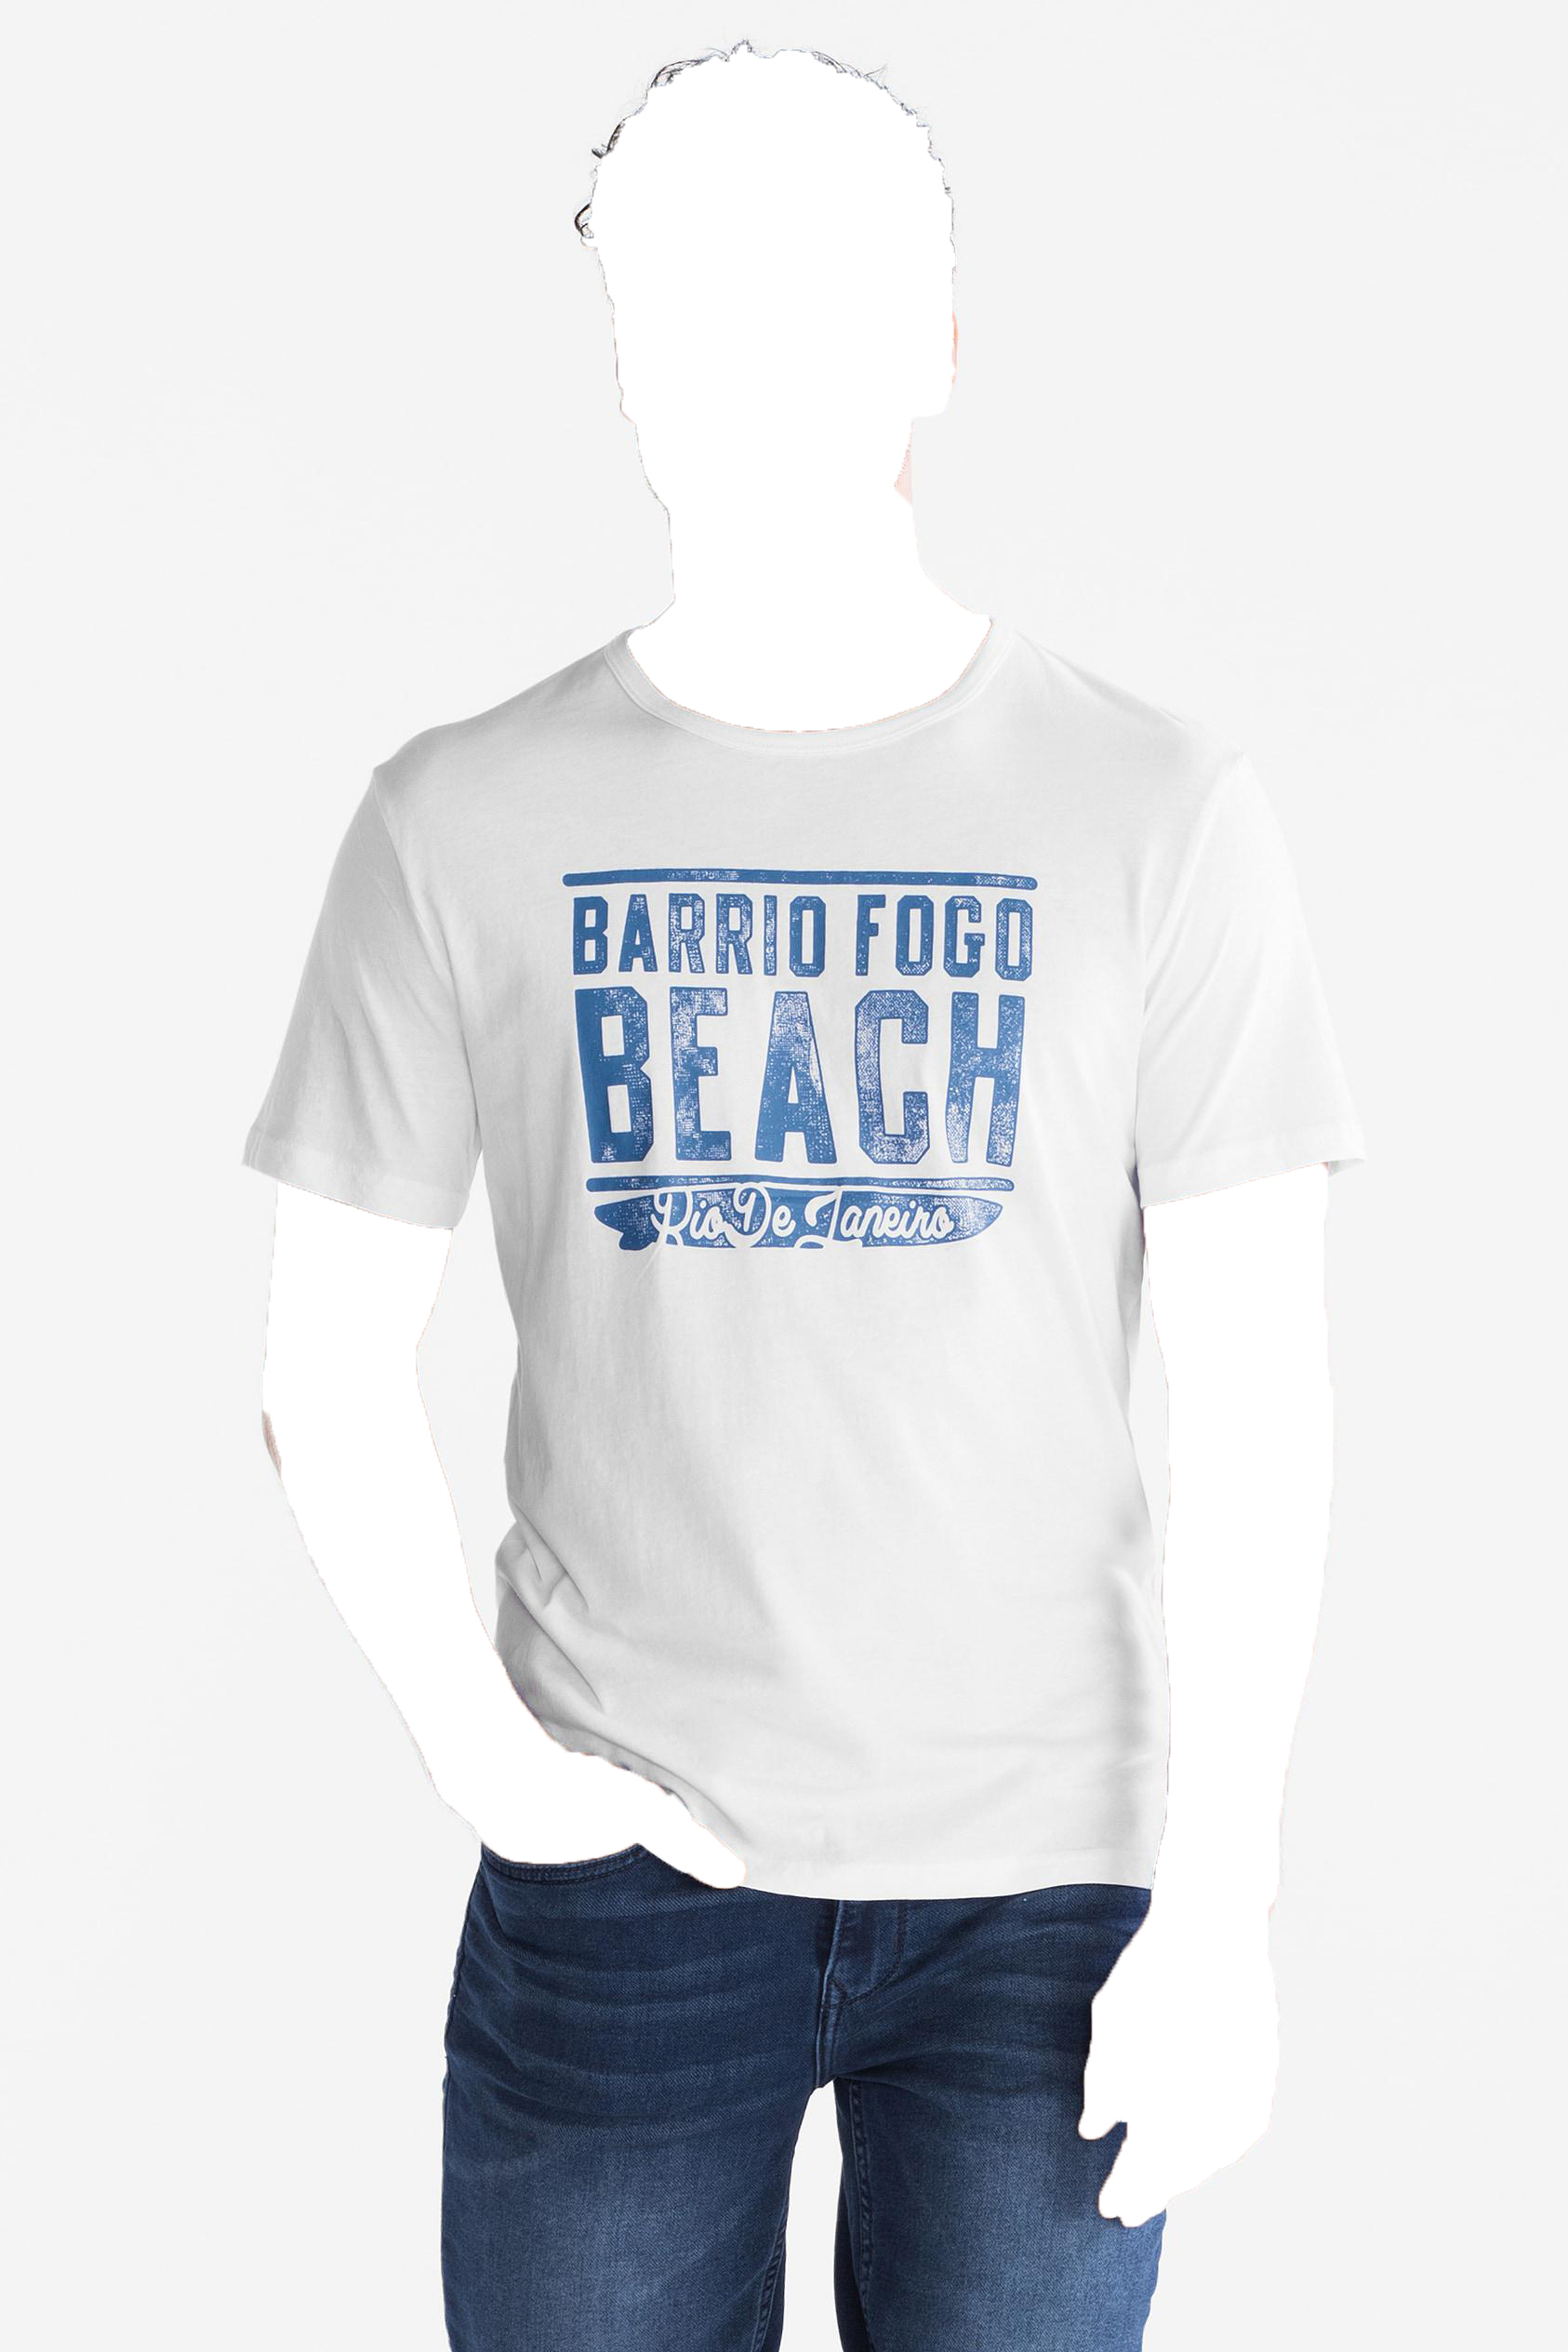teeshirt: (235, 621, 1400, 1934)
